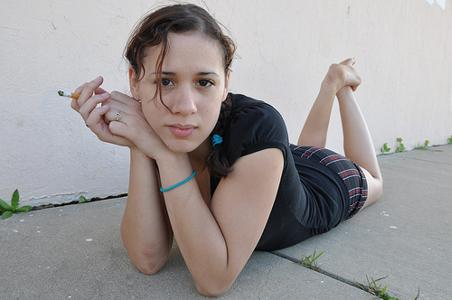person: (69, 1, 386, 296)
